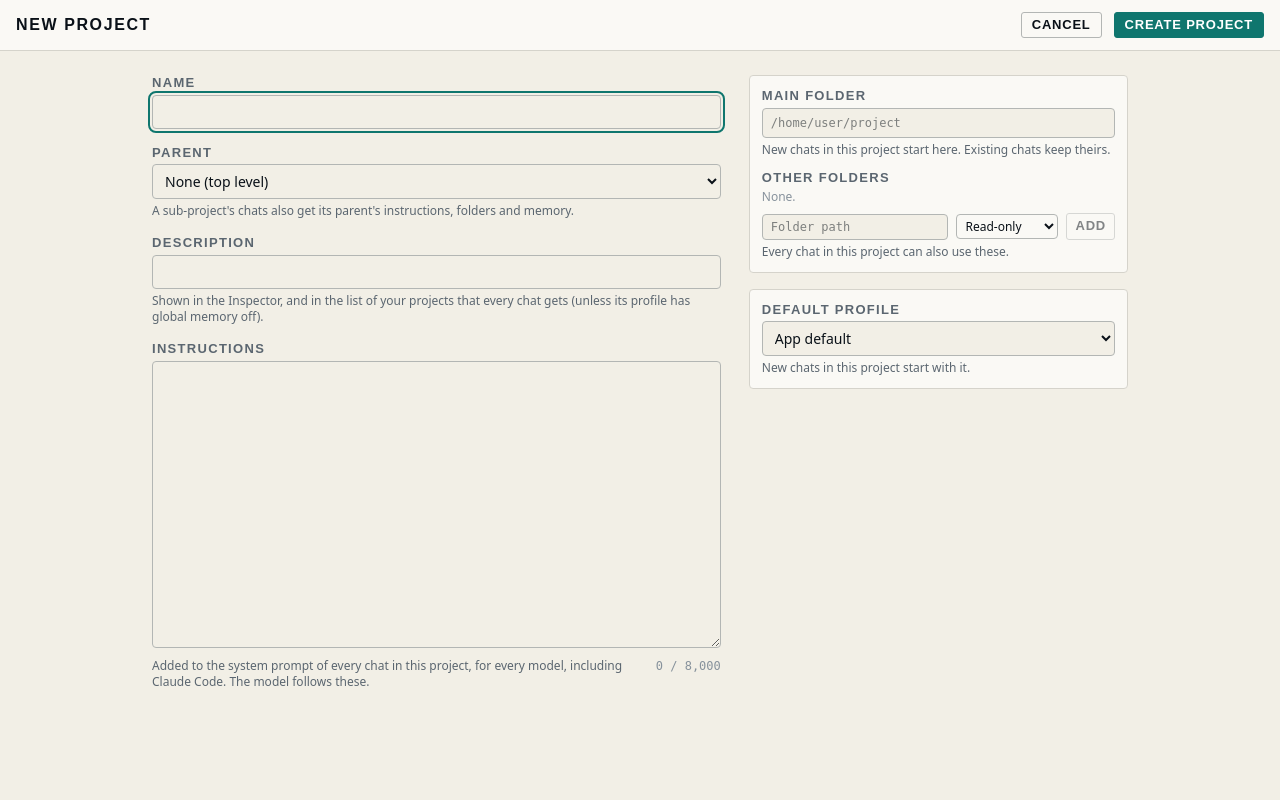
ProjectView, creating › keeps the page and the draft open when the server refuses, showing the server's message
This screenshot has width=1280, height=800.
In the field labelled "Name": (436, 112) x1=152 y1=95 x2=721 y2=129, type "OtherBench"
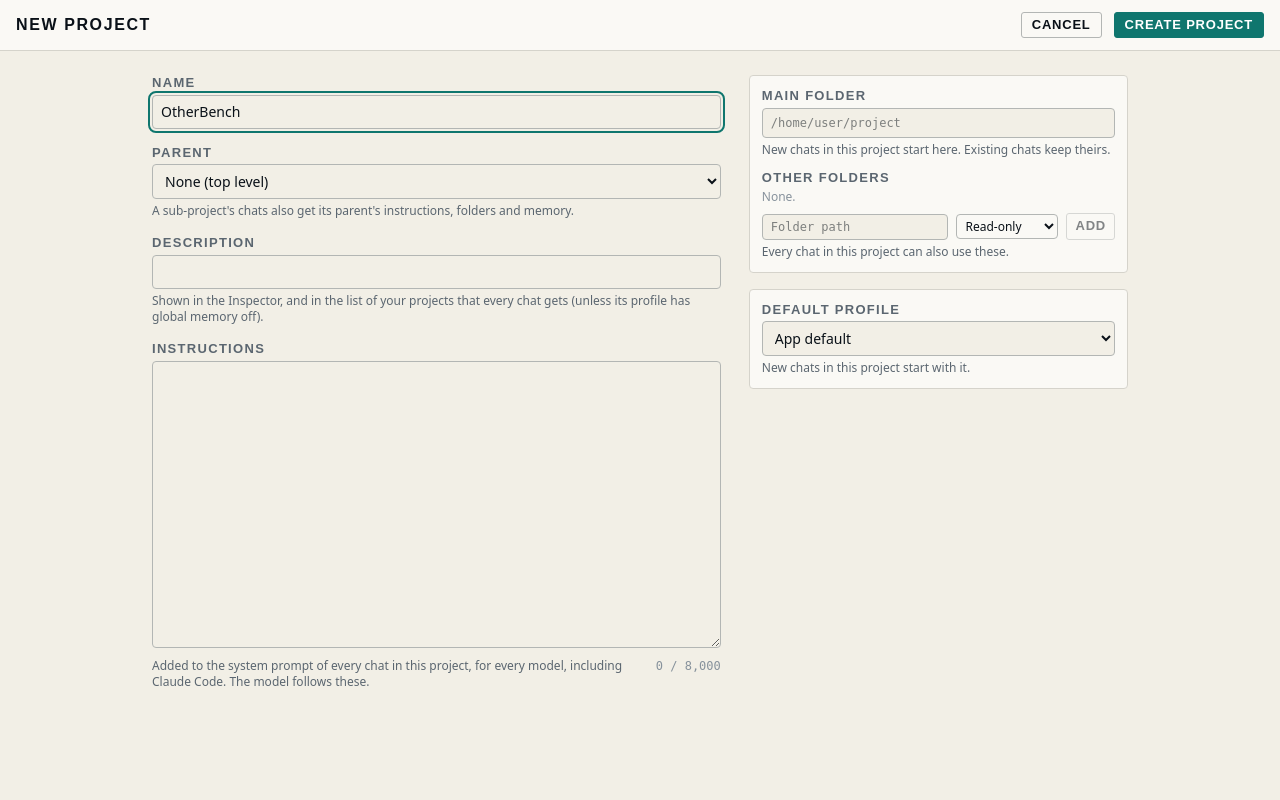
In the text box labelled "Instructions": (436, 504) x1=152 y1=361 x2=721 y2=648, type "Keep me."
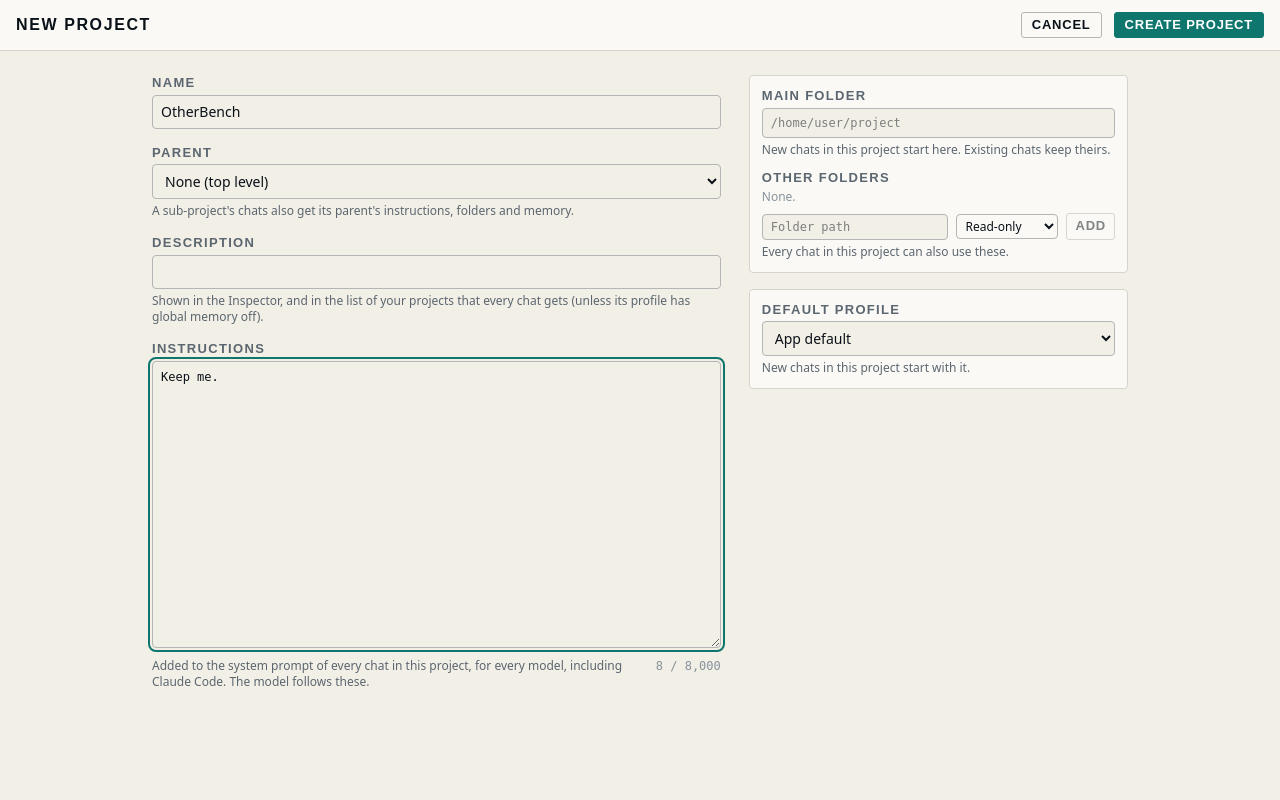
Click the button "Create project": (1189, 25) x1=1114 y1=12 x2=1264 y2=38
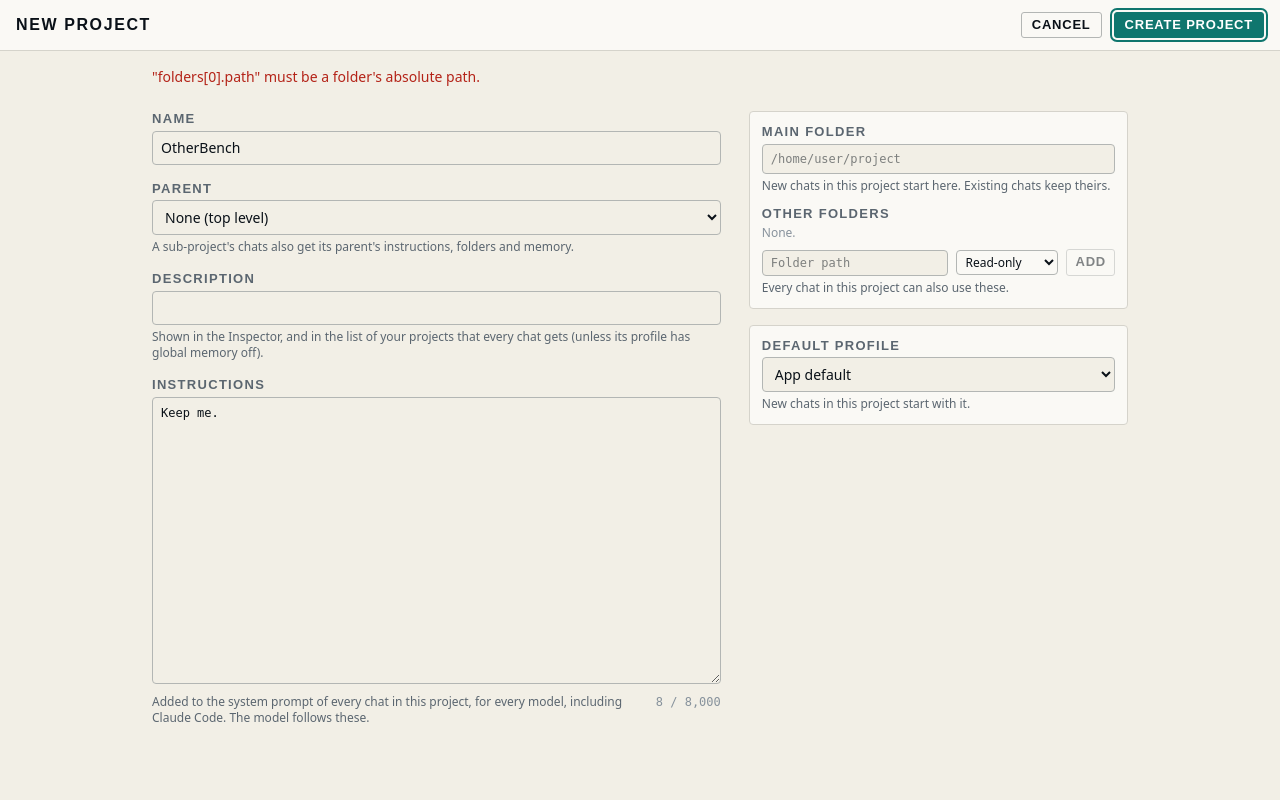
Expected: the message shows "\"folders[0].path\"", x1=152 y1=67 x2=480 y2=86
